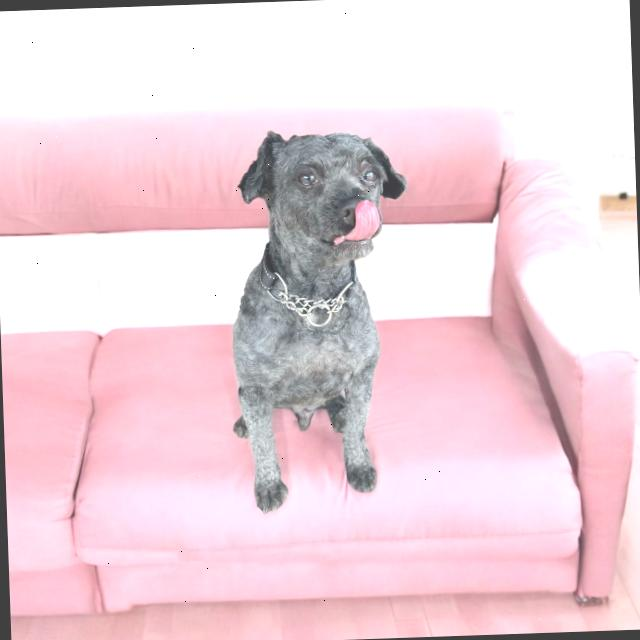Poodle_dog: (230, 120, 416, 274)
